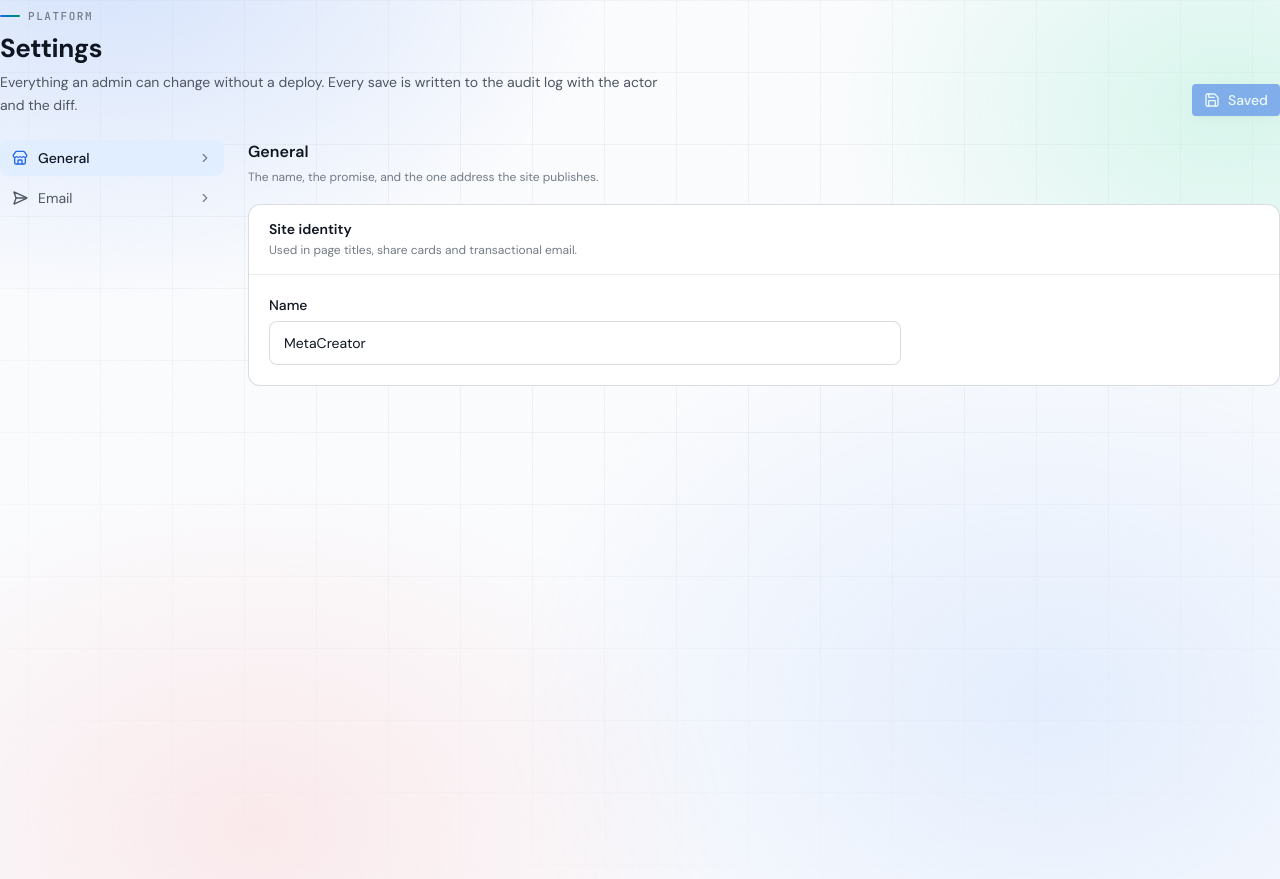
Test case: settings screen — Email › shows the provider's own error verbatim when a test fails
Click the button "Email": (112, 198) x1=0 y1=180 x2=224 y2=216
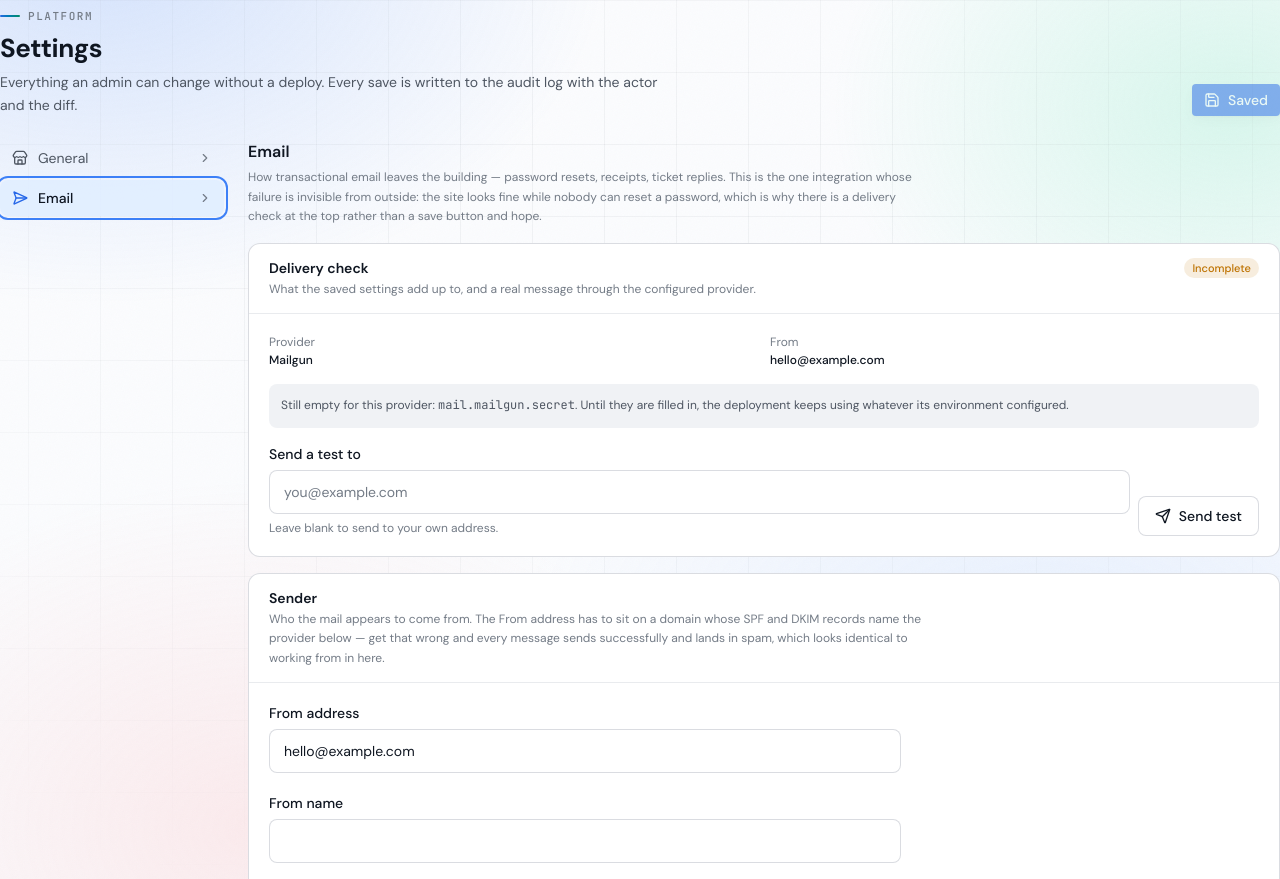
Click the button "Send test": (1198, 516) x1=1138 y1=496 x2=1259 y2=536
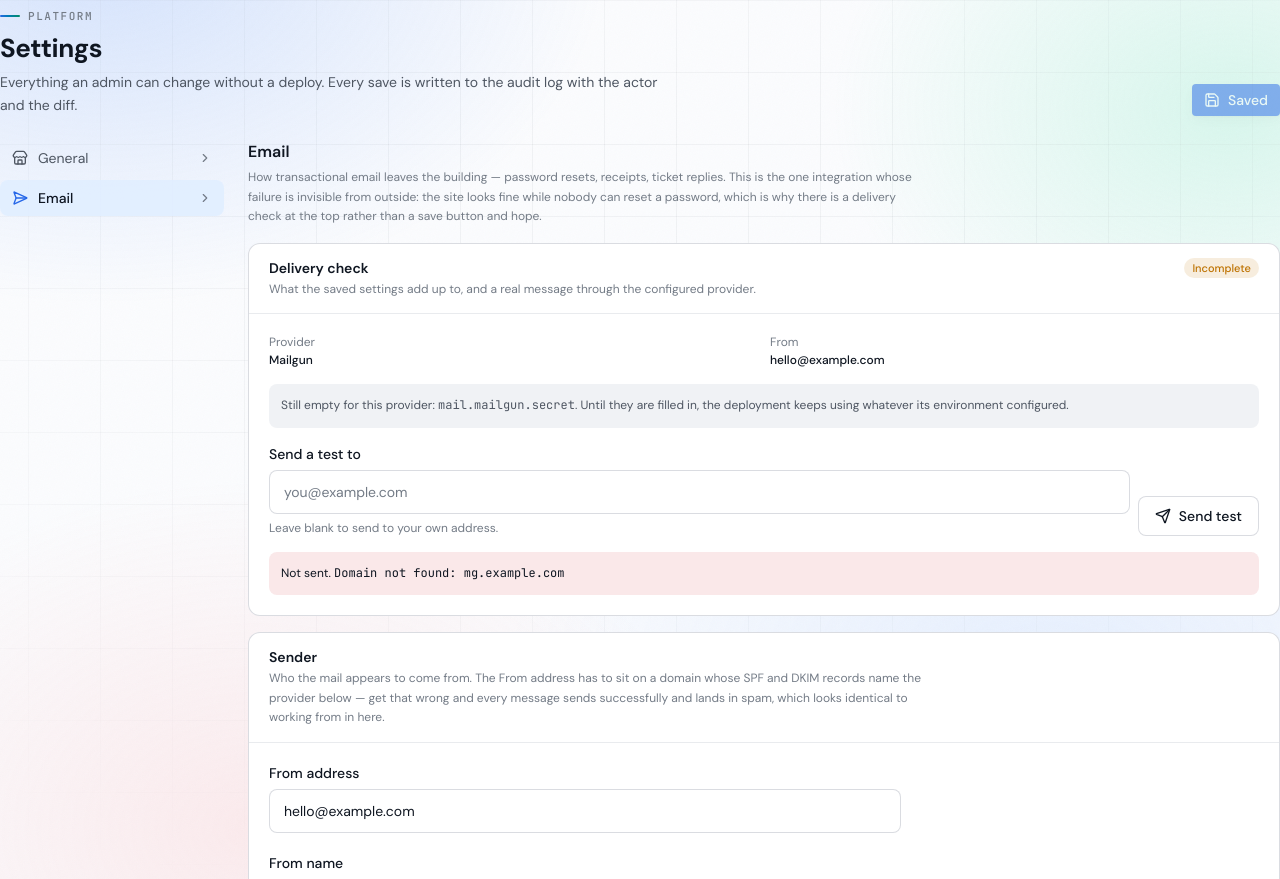
Now the text "Domain not found: mg.example.com" is shown, box x1=334 y1=565 x2=564 y2=581
